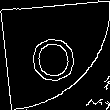O_N: (29, 28, 81, 82)
